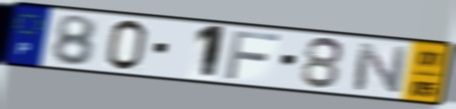0: (104, 19, 151, 71)
1: (191, 24, 227, 83)
8: (297, 36, 347, 91), (49, 13, 97, 68)
F: (223, 29, 283, 81)
N: (350, 41, 410, 96)
